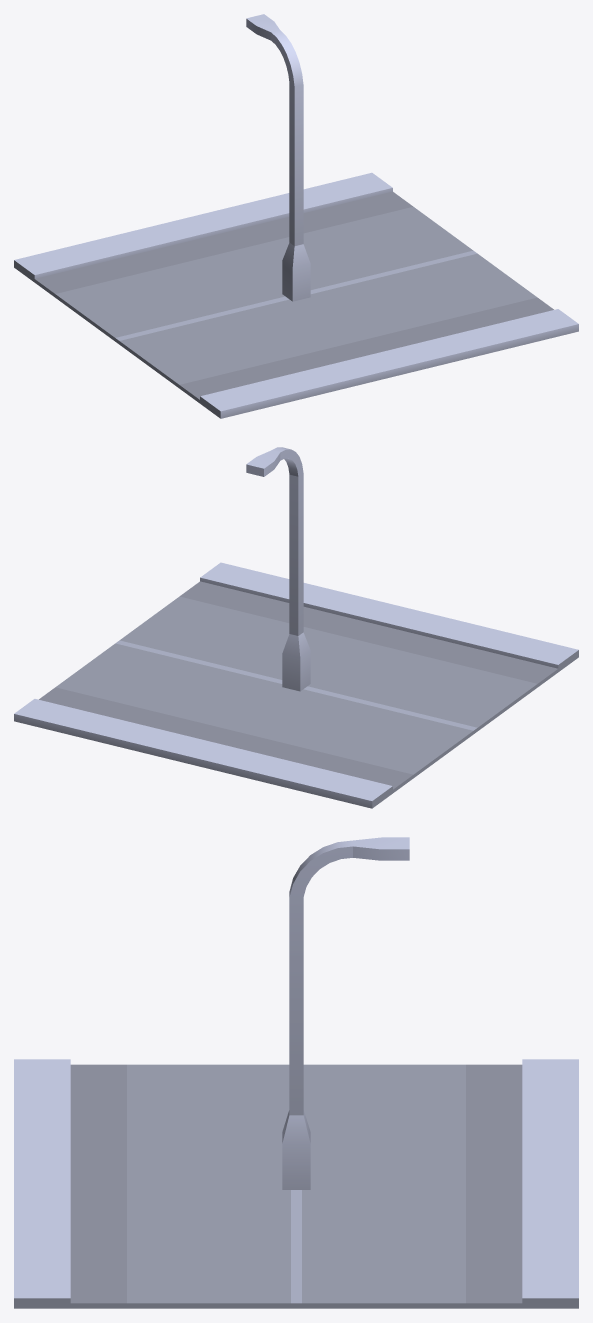
File: roads.glb
3 views of the same model, one above another, from view 1: azimuth 30°, elevation 25°; view 2: azimuth 150°, elevation 25°; view 3: azimuth 270°, elevation 25° (orthographic). The views are drawn at different scales.
Visible parts, largest first — view 1: road-driveway-double, road-straight, light-curved; view 2: road-driveway-double, road-straight, light-curved; view 3: road-driveway-double, road-straight, light-curved.
Part boxes in pixels (box(x1,y1,x2,y2)): road-driveway-double: box(14, 173, 578, 418); road-straight: box(15, 173, 575, 418); light-curved: box(246, 14, 310, 301); road-driveway-double: box(14, 562, 578, 808); road-straight: box(14, 563, 577, 800); light-curved: box(246, 447, 310, 691); road-driveway-double: box(14, 1059, 578, 1308); road-straight: box(14, 1059, 578, 1303); light-curved: box(282, 837, 409, 1189).
Size of the model in its own units: 1 by 0.675 by 1.
1 material, 1 textured.
